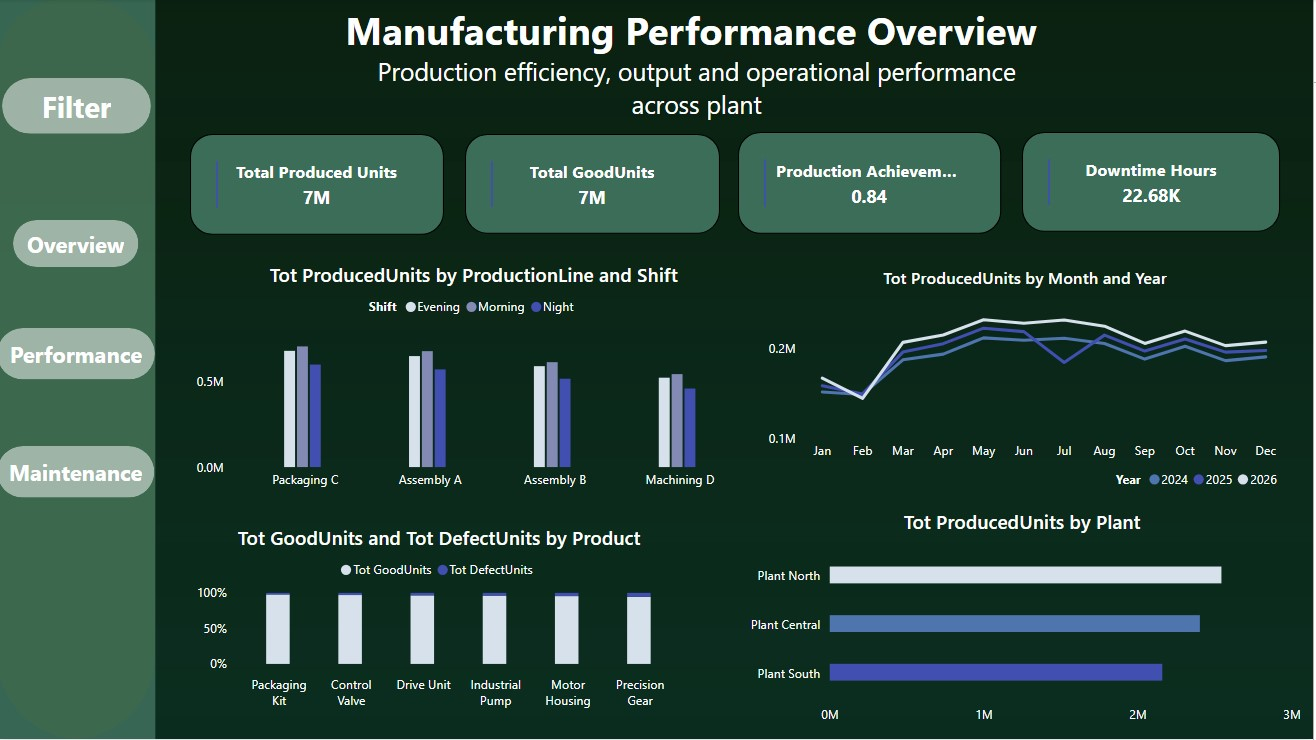

Layout of this report page (visuals, bound fields, positions):
{"tool":"powerbi","page":{"name":"Overview ","canvas":[1280,720],"ordinal":0},"visuals":[{"type":"cardVisual","fields":{"Data":["Production_Data.Total Produced Units"]},"box":[187.9,130.8,246.7,98.3],"z":0},{"type":"cardVisual","fields":{"Data":["Sum(Production_Data.GoodUnits)"]},"box":[454.8,130.8,247.6,97.5],"z":1000},{"type":"cardVisual","fields":{"Data":["Production_Data.Production Achievement %"]},"box":[720.9,129.1,255.5,99.2],"z":2000},{"type":"cardVisual","fields":{"Data":["Production_Data.Downtime Hours"]},"box":[996.6,129.1,251.1,97.5],"z":3000},{"type":"lineChart","fields":{"Category":["DateTable.Month"],"Series":["DateTable.Year"],"Y":["Sum(Production_Data.ProducedUnits)"]},"box":[745,260.7,509.7,224.7],"z":4000},{"type":"clusteredBarChart","fields":{"Category":["Production_Data.Plant"],"Y":["Sum(Production_Data.ProducedUnits)"]},"box":[720.7,495.1,552.5,218.8],"z":5000},{"type":"clusteredColumnChart","fields":{"Category":["Production_Data.ProductionLine"],"Y":["Sum(Production_Data.ProducedUnits)"],"Series":["Production_Data.Shift"]},"box":[188.2,254.4,549.9,230.4],"z":6000},{"type":"hundredPercentStackedColumnChart","fields":{"Category":["Production_Data.Product"],"Y":["Sum(Production_Data.GoodUnits)","Sum(Production_Data.DefectUnits)"]},"box":[188.2,511.1,482.6,187.1],"z":7000},{"type":"shape","box":[0,0,153.7,720],"z":8000},{"type":"textbox","box":[330.1,0,701.6,137],"z":9000},{"type":"actionButton","box":[4.4,76.4,144.9,54.4],"z":10000},{"type":"actionButton","box":[15.8,215.1,122,45.7],"z":12000},{"type":"actionButton","box":[0,319.6,153.7,50],"z":13000},{"type":"actionButton","box":[0,434.5,153.1,50.3],"z":14000}]}

Visuals, with their boxes in screenshot pixels (x1, y1, x2, y2), scaled from the page's 1280x720 canvas onto the 1316x740 screenshot:
cardVisual - Production_Data.Total Produced Units: bbox=(193, 134, 447, 235)
cardVisual - Sum(Production_Data.GoodUnits): bbox=(468, 134, 722, 235)
cardVisual - Production_Data.Production Achievement %: bbox=(741, 133, 1004, 235)
cardVisual - Production_Data.Downtime Hours: bbox=(1025, 133, 1283, 233)
lineChart - DateTable.Month x DateTable.Year: bbox=(766, 268, 1290, 499)
clusteredBarChart - Production_Data.Plant x Sum(Production_Data.ProducedUnits): bbox=(741, 509, 1309, 734)
clusteredColumnChart - Production_Data.ProductionLine x Sum(Production_Data.ProducedUnits): bbox=(193, 261, 759, 498)
hundredPercentStackedColumnChart - Production_Data.Product x Sum(Production_Data.GoodUnits): bbox=(193, 525, 690, 718)
shape: bbox=(0, 0, 158, 739)
textbox: bbox=(339, 0, 1061, 141)
actionButton: bbox=(5, 79, 153, 134)
actionButton: bbox=(16, 221, 142, 268)
actionButton: bbox=(0, 328, 158, 380)
actionButton: bbox=(0, 447, 157, 498)
